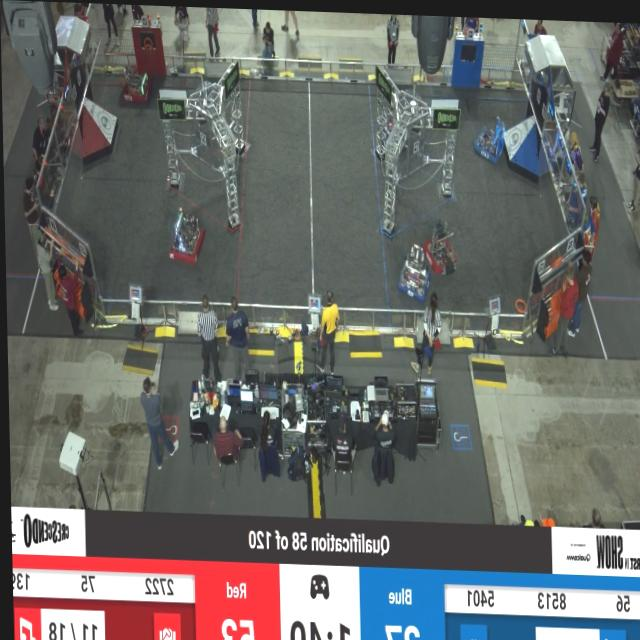Robot: (167, 204, 207, 266), (396, 240, 430, 300), (426, 215, 457, 275), (121, 58, 153, 107), (473, 115, 504, 164), (372, 93, 402, 141)
